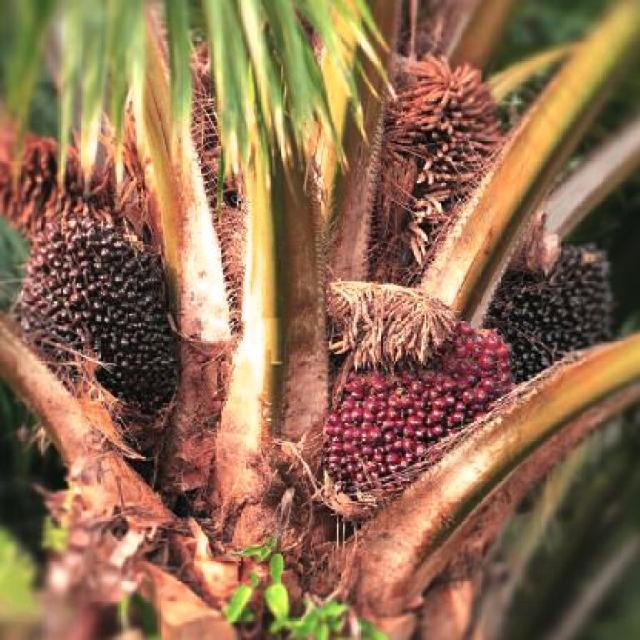palm-oil: (309, 290, 502, 495), (11, 222, 195, 432), (355, 49, 504, 266), (478, 225, 624, 392)
